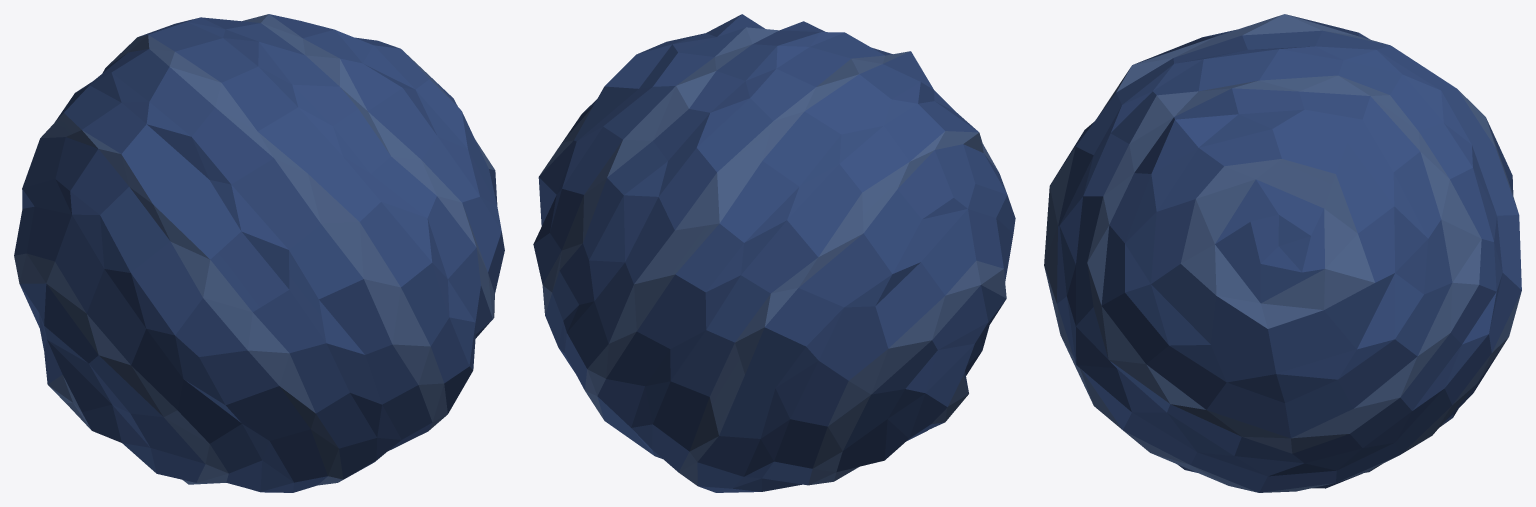
Rendered from neptune.fbx.
3 renders of one model, left to right at view 1: azimuth 30°, elevation 25°; view 2: azimuth 150°, elevation 25°; view 3: azimuth 270°, elevation 25°, orthographic. The views are drawn at different scales.
Visible parts, largest first — view 1: Neptune; view 2: Neptune; view 3: Neptune.
Boxes of the visible parts, x1,y1,x2,y2 form: Neptune: [14, 14, 504, 492]; Neptune: [533, 14, 1015, 492]; Neptune: [1044, 14, 1521, 492].
Bounding box in the file's own units: 314 × 301 × 310.
